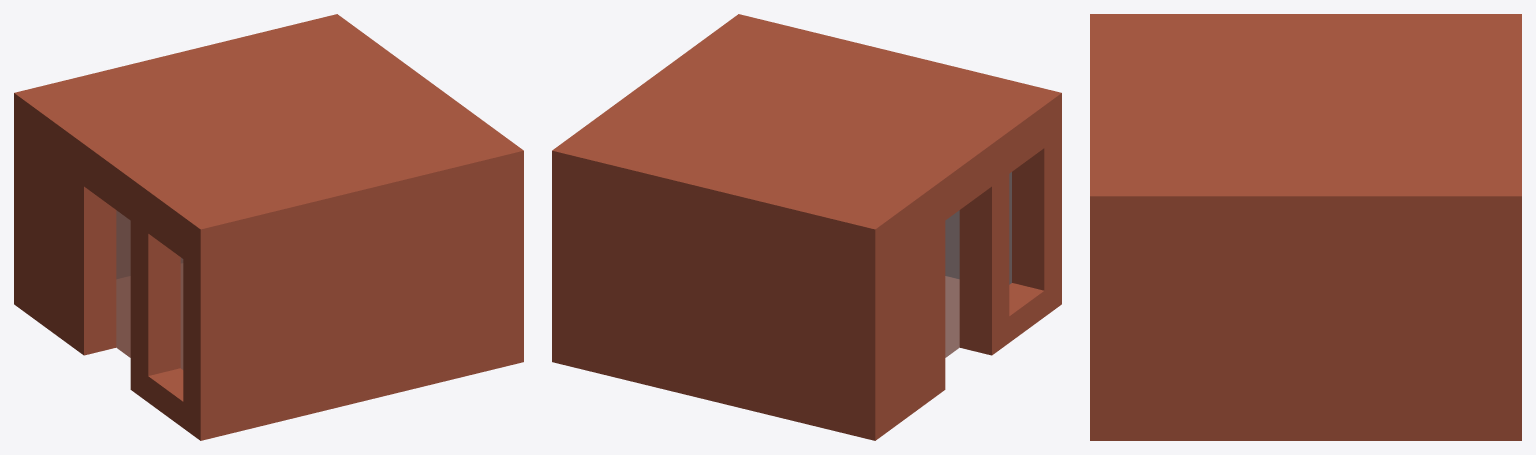
File: modularBuildings_069.obj
3 renders of one model, left to right at view 1: azimuth 30°, elevation 25°; view 2: azimuth 150°, elevation 25°; view 3: azimuth 270°, elevation 25°, orthographic. The views are drawn at different scales.
Parts seen in each view (by area): view 1: Mesh1 Group1 Model; view 2: Mesh1 Group1 Model; view 3: Mesh1 Group1 Model.
Boxes of the visible parts, x1,y1,x2,y2 form: Mesh1 Group1 Model: (14,14,523,440); Mesh1 Group1 Model: (552,14,1061,440); Mesh1 Group1 Model: (1090,14,1521,440).
Size of the model in its own units: 1 by 0.625 by 1.
